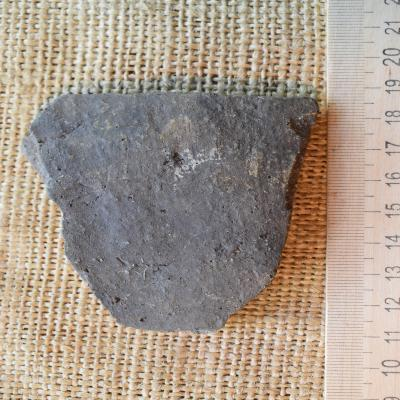archeology: (20, 90, 320, 336)
